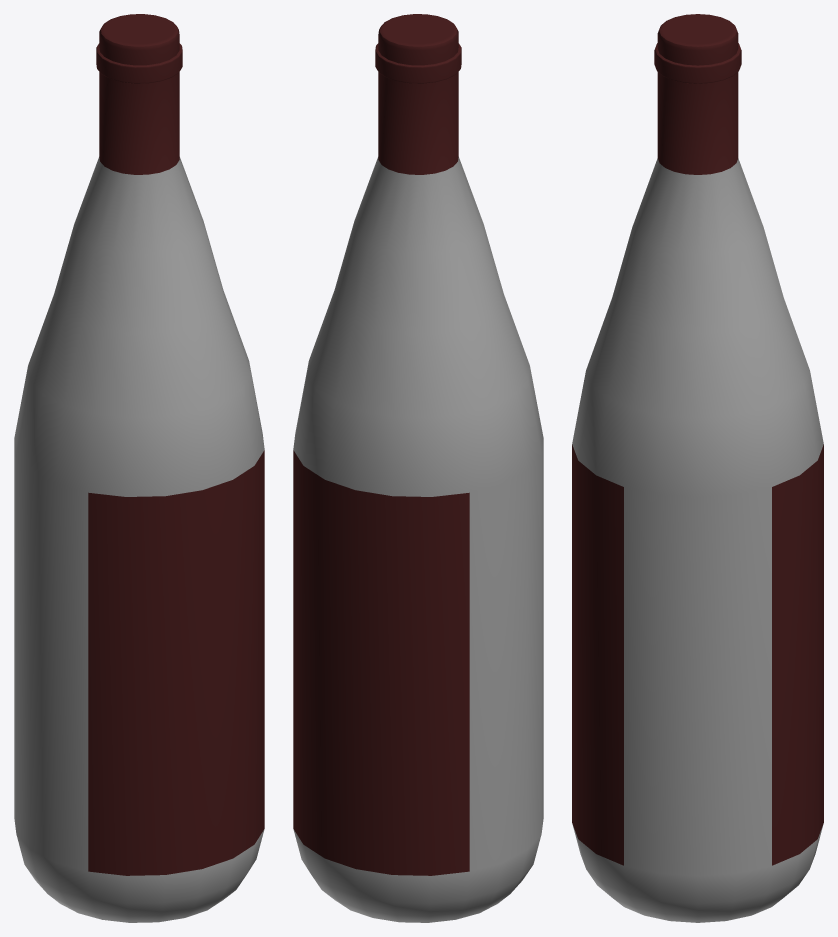
Rendered from WineBottleTall.fbx.
The picture shows the model from 3 angles, left to right: view 1: azimuth 30°, elevation 25°; view 2: azimuth 150°, elevation 25°; view 3: azimuth 270°, elevation 25°; orthographic projection.
Parts seen in each view (by area): view 1: pCylinder20; view 2: pCylinder20; view 3: pCylinder20.
Part boxes in pixels (bbox=[...]): pCylinder20: bbox=[14, 14, 264, 922]; pCylinder20: bbox=[293, 14, 543, 922]; pCylinder20: bbox=[572, 14, 823, 922].
Size of the model in its own units: 0.2449 by 0.9229 by 0.2449.
